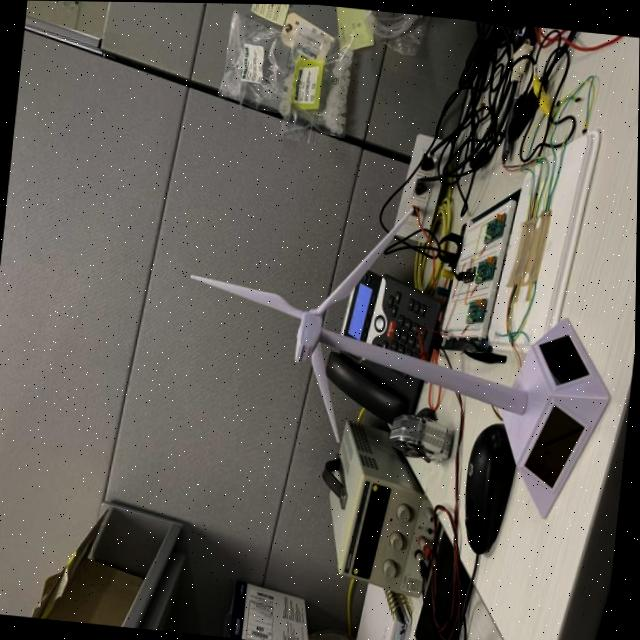solid-blade: (319, 206, 413, 308), (192, 274, 303, 317), (312, 342, 341, 440)
